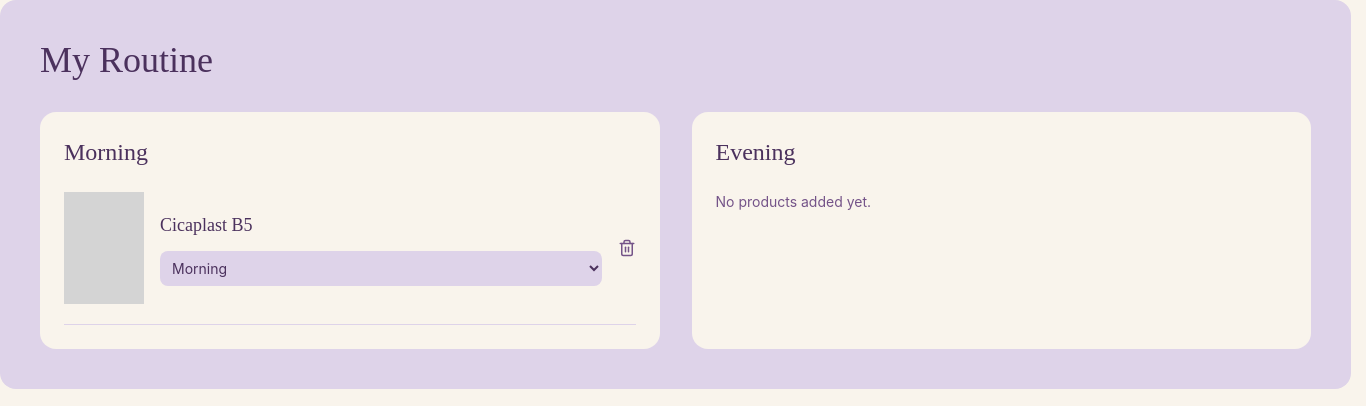
removes a product from the routine
The width and height of the screenshot is (1366, 406).
Expected: the heading "Cicaplast B5" is shown, left=160, top=214, right=252, bottom=234
What coordinates should you click on to do the following:
click the button named "Remove Cicaplast B5"
I would click on:
 (626, 248)
Its box is left=618, top=239, right=636, bottom=257.
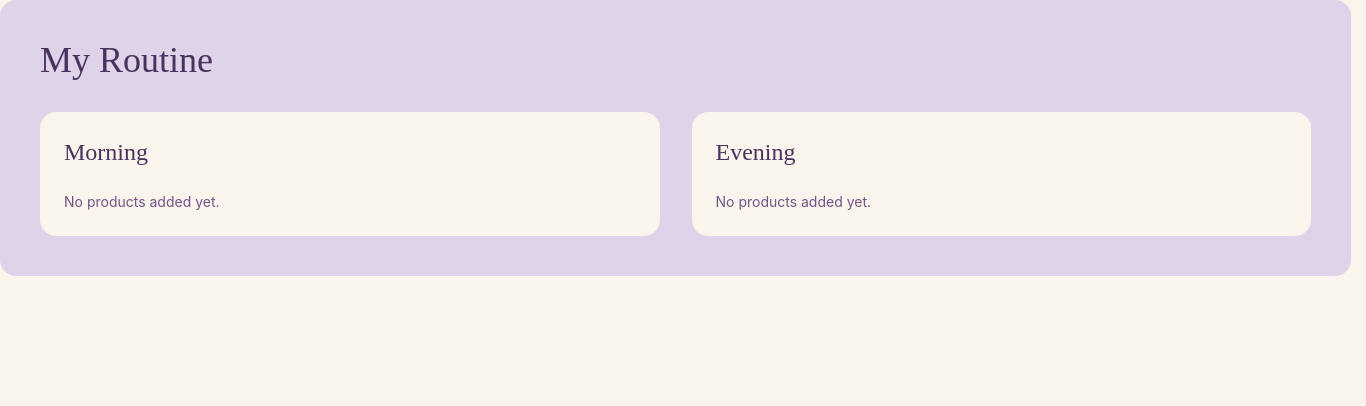
Expected: the heading "Cicaplast B5" is gone
